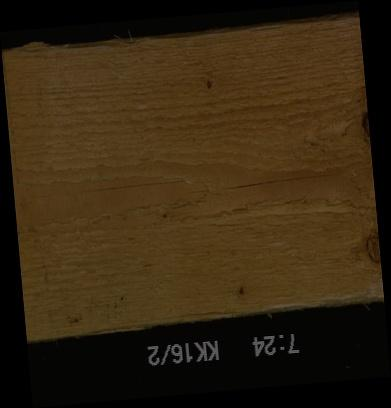small_knot: (204, 77, 214, 94), (233, 286, 246, 296)
split: (184, 168, 373, 190), (13, 181, 193, 199), (87, 305, 234, 324)
wave: (16, 31, 136, 59), (259, 291, 383, 308)
